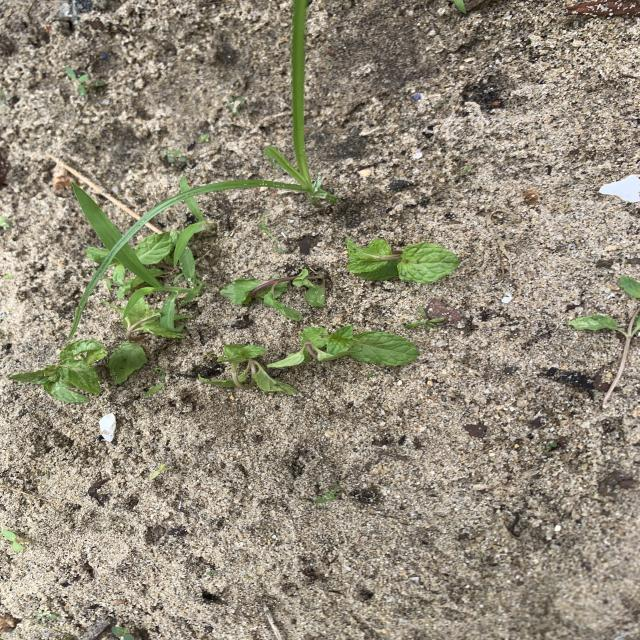crop: (567, 303, 640, 402), (268, 325, 419, 368), (109, 298, 184, 383), (8, 340, 107, 403), (221, 269, 326, 321), (346, 238, 460, 284), (198, 344, 298, 395), (135, 231, 178, 265), (619, 276, 640, 299)
weed: (68, 0, 336, 339), (117, 244, 202, 333), (174, 195, 206, 265), (65, 66, 106, 97), (257, 211, 287, 253), (404, 307, 446, 331), (103, 623, 149, 640), (313, 485, 341, 506), (145, 372, 166, 396), (227, 95, 246, 118), (149, 464, 173, 480), (166, 149, 188, 164), (453, 0, 466, 15), (198, 133, 211, 143), (0, 216, 9, 229), (183, 270, 194, 278)
